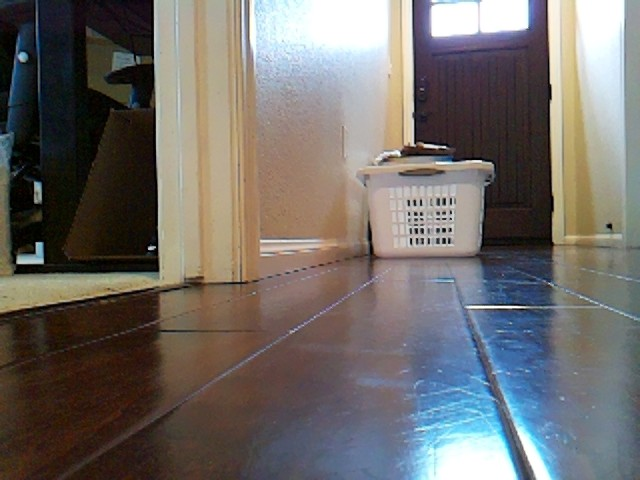Drivable Area: (1, 288, 640, 480), (318, 267, 518, 300), (508, 248, 640, 292)
Obstacle: (0, 0, 157, 273), (159, 0, 262, 287), (359, 143, 489, 260)
